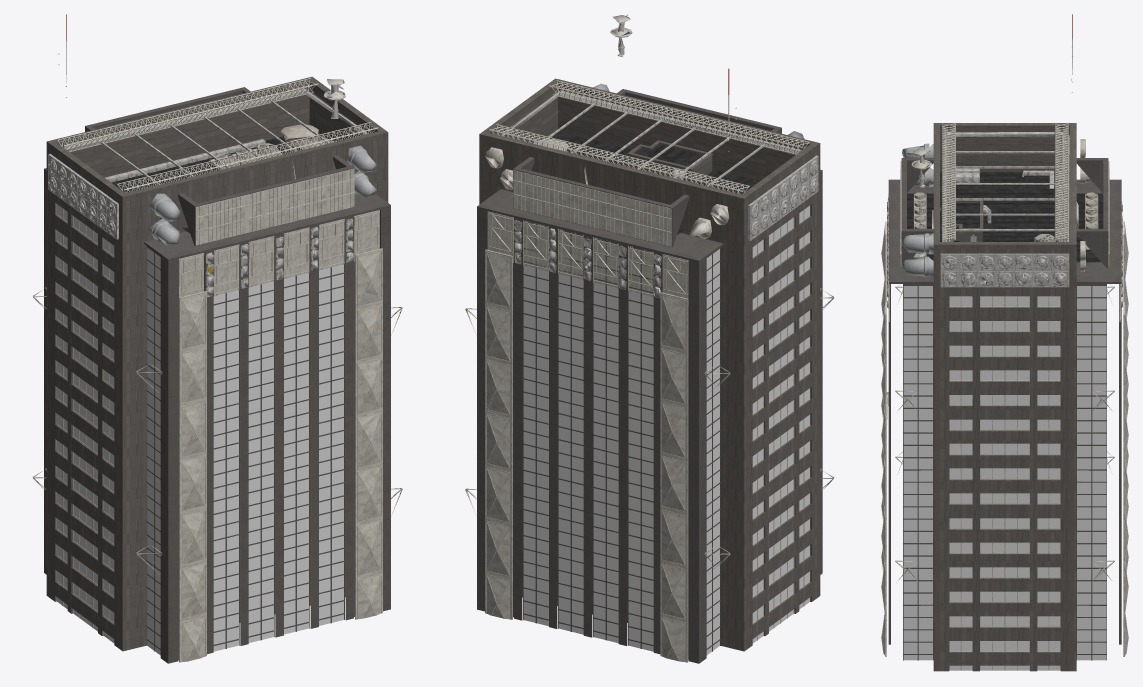
The model's file is KB3D_NEC_BldgLG_B_Main_H110.glb.
3 renders of one model, left to right at view 1: azimuth 30°, elevation 25°; view 2: azimuth 150°, elevation 25°; view 3: azimuth 270°, elevation 25°, orthographic. The views are drawn at different scales.
Parts seen in each view (by area): view 1: KB3D_NEC_BldgLG_B_Main; view 2: KB3D_NEC_BldgLG_B_Main; view 3: KB3D_NEC_BldgLG_B_Main.
Boxes of the visible parts, x1,y1,x2,y2 form: KB3D_NEC_BldgLG_B_Main: [32, 14, 402, 663]; KB3D_NEC_BldgLG_B_Main: [465, 14, 834, 663]; KB3D_NEC_BldgLG_B_Main: [881, 14, 1128, 671].
Size of the model in its own units: 54.56 by 110 by 45.38.
Materials: 12 (10 with a texture image).
